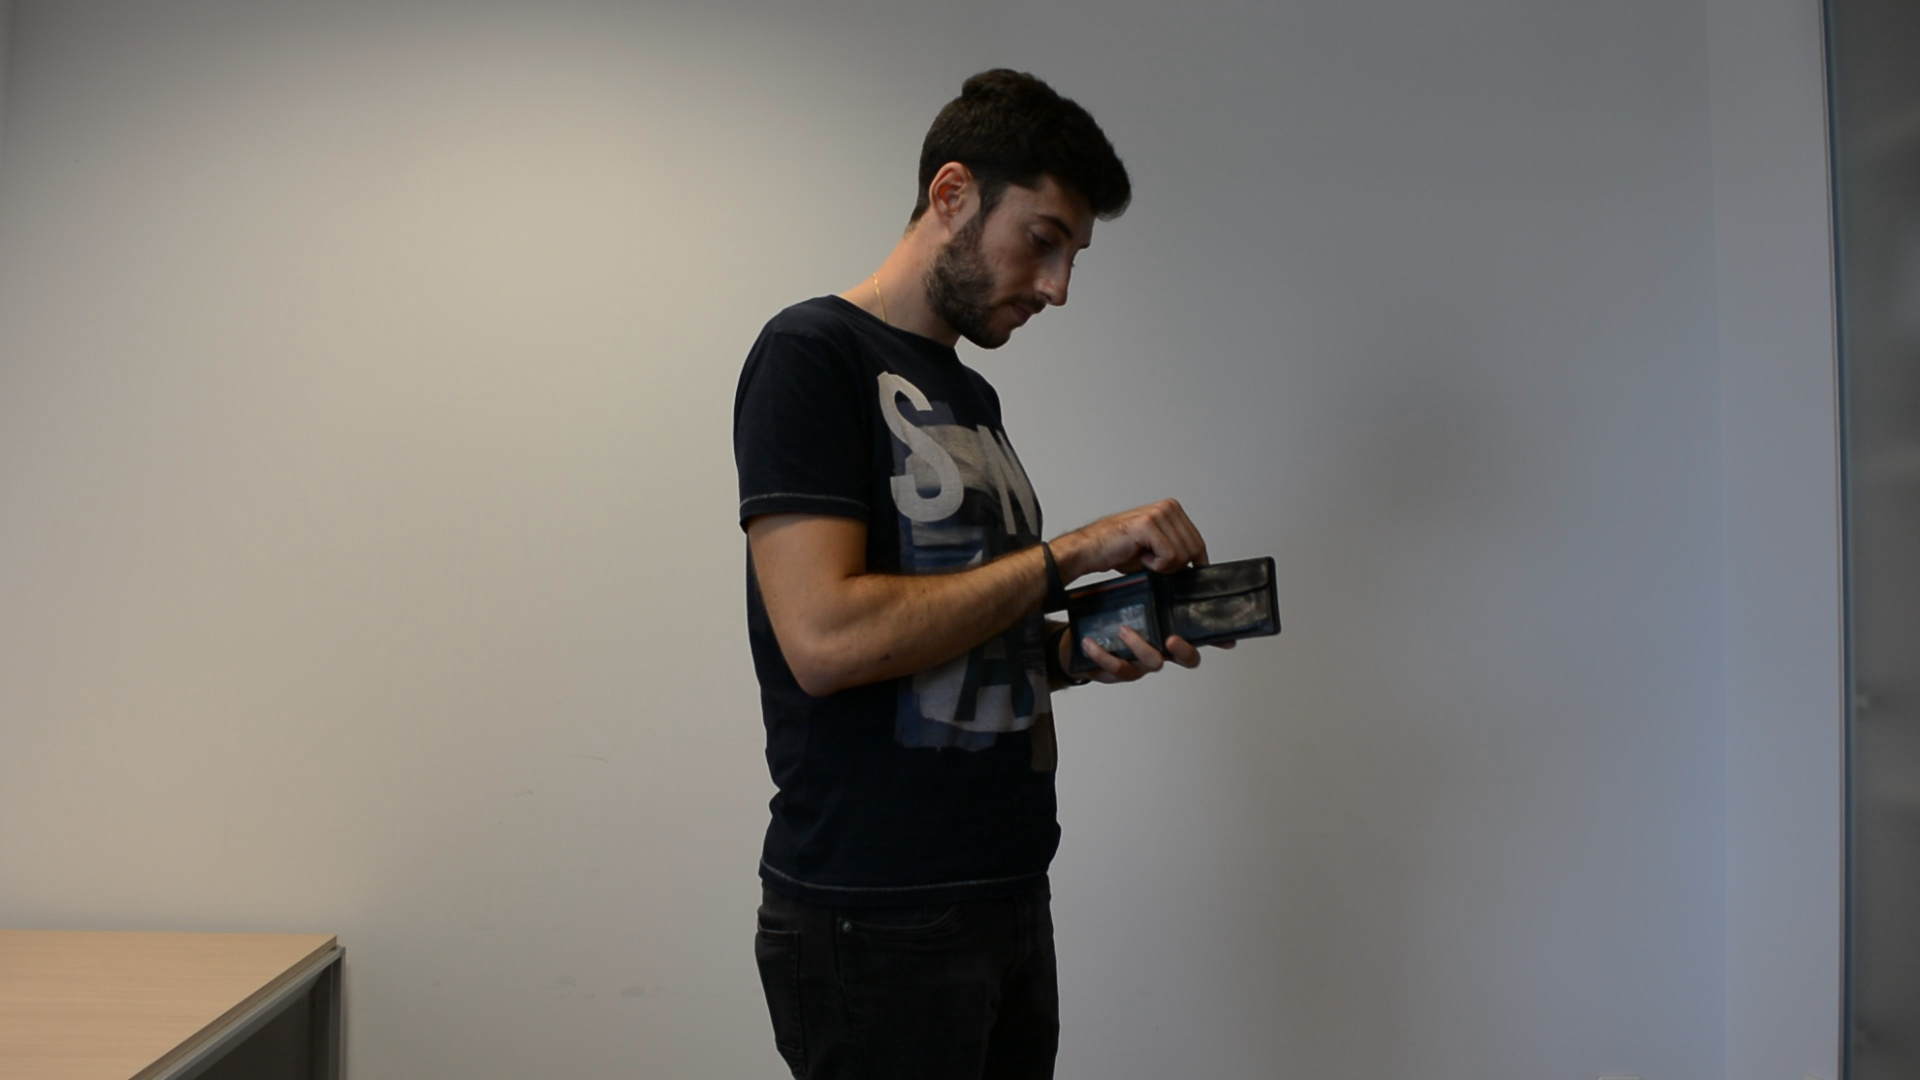monedero: (1062, 553, 1283, 676)
